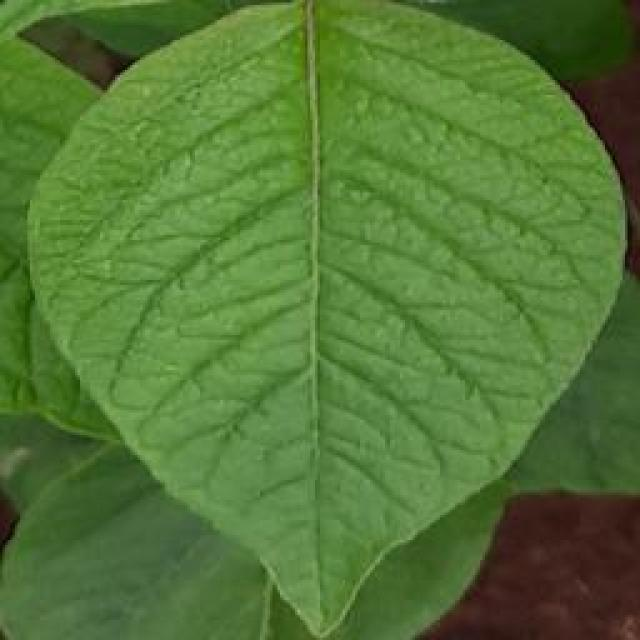healthy: (18, 0, 632, 638)
